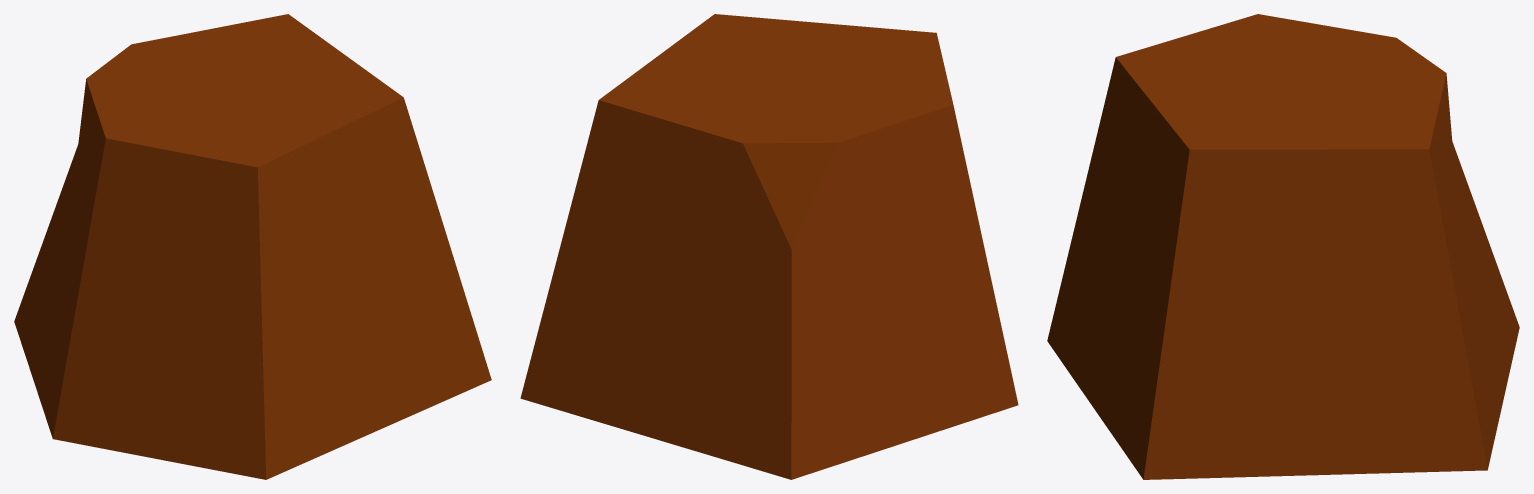
The model's file is stone_012.fbx.
3 renders of one model, left to right at view 1: azimuth 30°, elevation 25°; view 2: azimuth 150°, elevation 25°; view 3: azimuth 270°, elevation 25°, orthographic. The views are drawn at different scales.
Visible parts, largest first — view 1: stone.012; view 2: stone.012; view 3: stone.012.
Part boxes in pixels (x1,y1,x2,y2): stone.012: [14, 14, 491, 479]; stone.012: [520, 14, 1018, 479]; stone.012: [1047, 14, 1519, 479].
Bounding box in the file's own units: 68.2 × 47.28 × 68.3.
